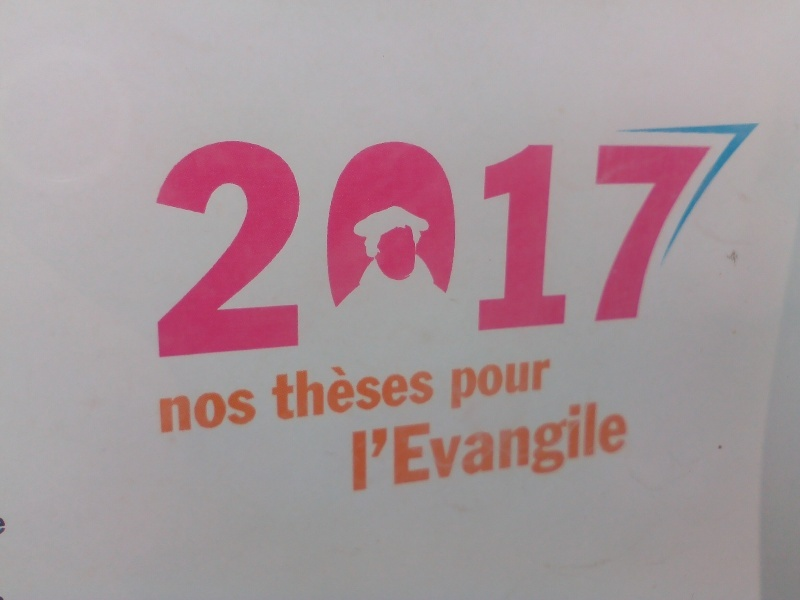text: (161, 136, 176, 360), (177, 136, 192, 360), (193, 136, 208, 360), (209, 136, 224, 360), (225, 136, 240, 360), (241, 136, 256, 360), (257, 136, 272, 360), (273, 136, 288, 360), (289, 136, 304, 360), (305, 136, 320, 360), (321, 136, 336, 360), (337, 136, 352, 360), (353, 136, 368, 360), (369, 136, 384, 360), (385, 136, 400, 360), (401, 136, 416, 360), (417, 136, 432, 360), (433, 136, 448, 360), (449, 136, 464, 360), (465, 136, 480, 360), (481, 136, 496, 360), (497, 136, 512, 360), (513, 136, 528, 360), (529, 136, 544, 360), (545, 136, 560, 360), (561, 136, 576, 360), (577, 136, 592, 360), (593, 136, 608, 360), (609, 136, 624, 360), (625, 136, 640, 360), (641, 136, 656, 360), (657, 136, 672, 360), (673, 136, 688, 360), (689, 136, 704, 360), (705, 136, 717, 360), (353, 395, 368, 493), (369, 395, 384, 493), (385, 395, 400, 493), (401, 395, 416, 493), (417, 395, 432, 493), (433, 395, 448, 493), (449, 395, 464, 493), (465, 395, 480, 493), (481, 395, 496, 493), (497, 395, 512, 493), (513, 395, 528, 493), (529, 395, 544, 493), (545, 395, 560, 493), (561, 395, 576, 493), (577, 395, 592, 493), (593, 395, 608, 493), (609, 395, 624, 493), (154, 136, 160, 360), (273, 359, 288, 423), (289, 359, 304, 423), (305, 359, 320, 423), (321, 359, 336, 423), (337, 359, 352, 423), (353, 359, 368, 423), (369, 359, 384, 423), (385, 359, 400, 423), (401, 359, 416, 423), (417, 359, 432, 423), (449, 355, 464, 409), (465, 355, 480, 409), (481, 355, 496, 409), (497, 355, 512, 409), (513, 355, 528, 409), (529, 355, 544, 409), (241, 388, 257, 436), (161, 388, 176, 436), (177, 388, 192, 436), (193, 388, 208, 436), (209, 388, 224, 436), (225, 388, 240, 436), (625, 395, 630, 493), (545, 355, 553, 409), (433, 359, 437, 423), (156, 388, 160, 436)
